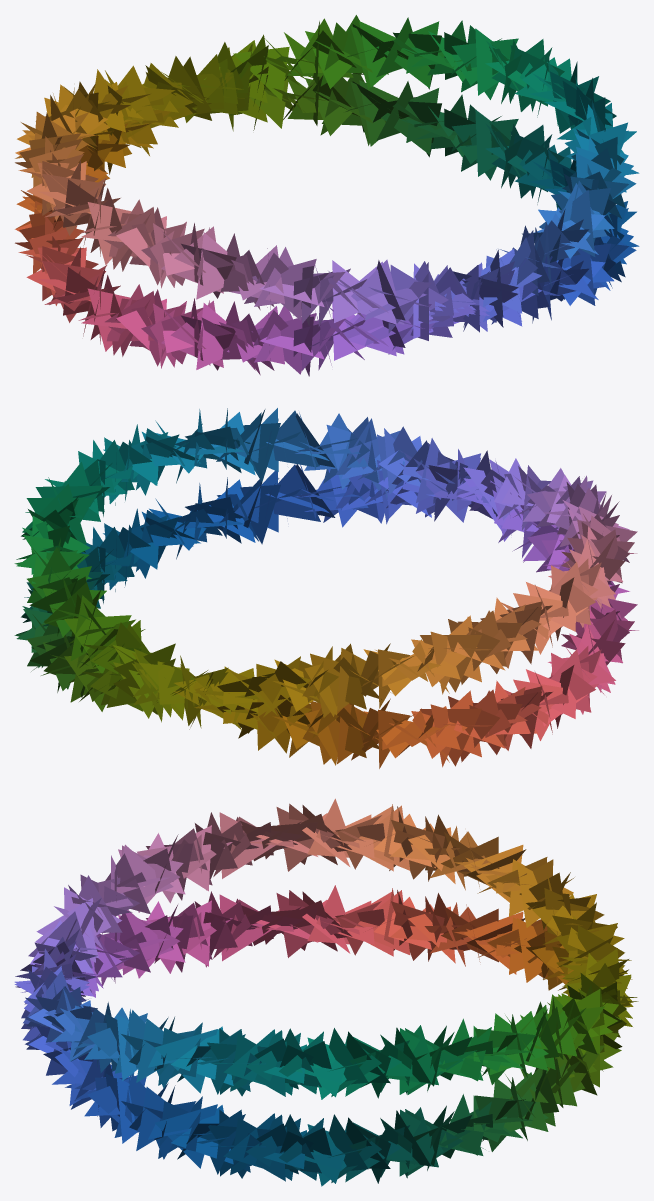
The model's file is Model_Ring512.fbx.
The picture shows the model from 3 angles, top to bottom: view 1: azimuth 30°, elevation 25°; view 2: azimuth 150°, elevation 25°; view 3: azimuth 270°, elevation 25°; orthographic projection.
Visible parts, largest first — view 1: Ring; view 2: Ring; view 3: Ring.
Part boxes in pixels (x1=…): Ring: x1=15, y1=15, x2=639, y2=376; Ring: x1=14, y1=408, x2=638, y2=768; Ring: x1=14, y1=798, x2=638, y2=1186.
Bounding box in the file's own units: 2.22 × 0.6231 × 2.28.
